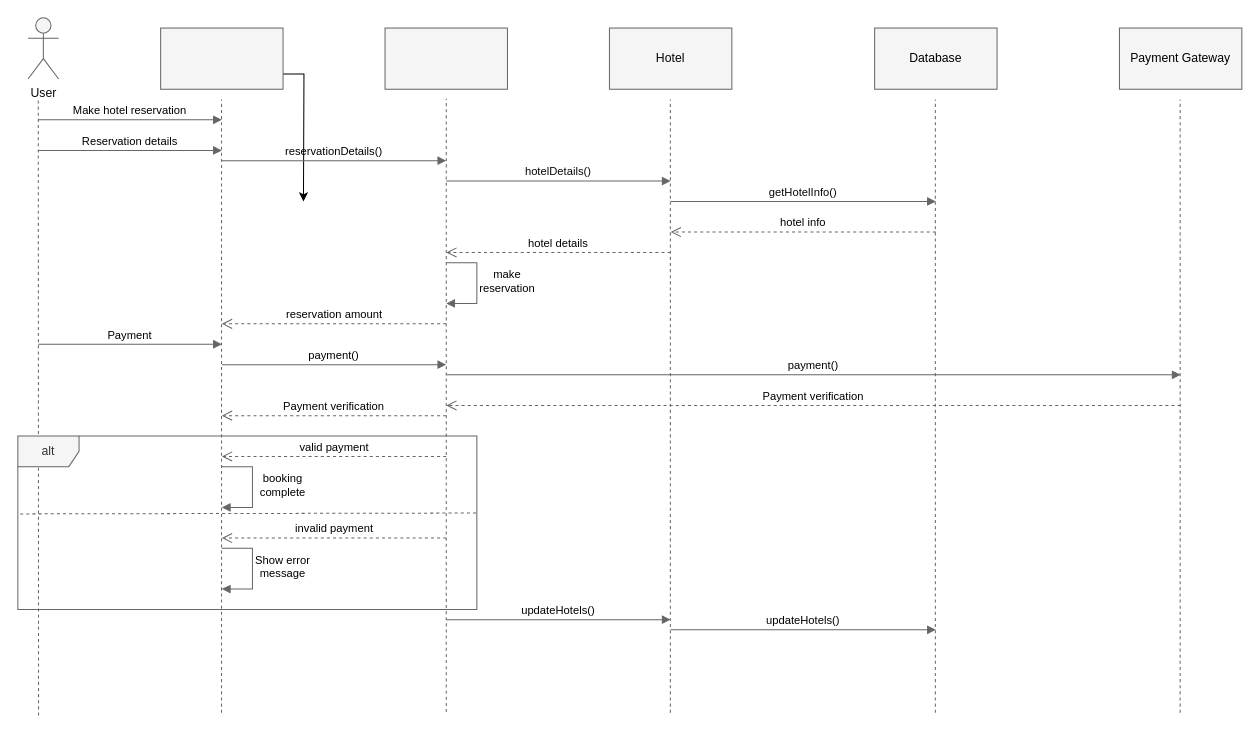
Image size: 1260x734. Some labels were removed from this diagram. The centre of each missing label's shape, as x and y in pixels:
"GUI" goes at [221,58].
"Resesrvation Manager" goes at [445,58].
